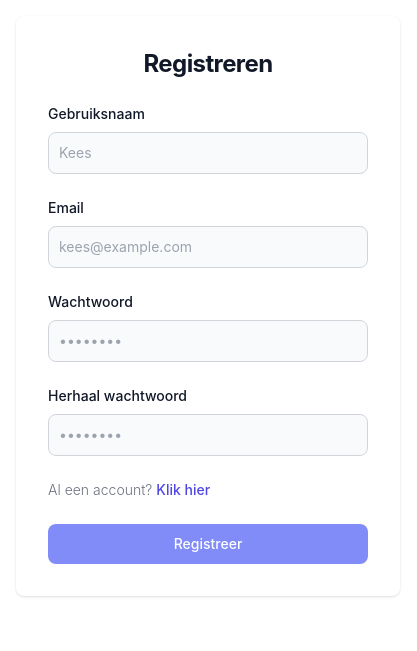
Scenario: Test register page › Registreer zonder wachtwoord
The image size is (417, 651).
Type "test" into the field with id "gebruiksnaam" at [208, 153], box [48,132,368,174]
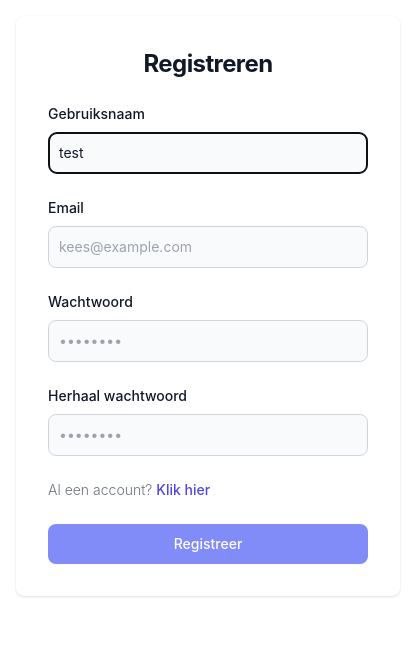
Type "test@test.com" into the field with id "email" at [208, 247], box [48,226,368,268]
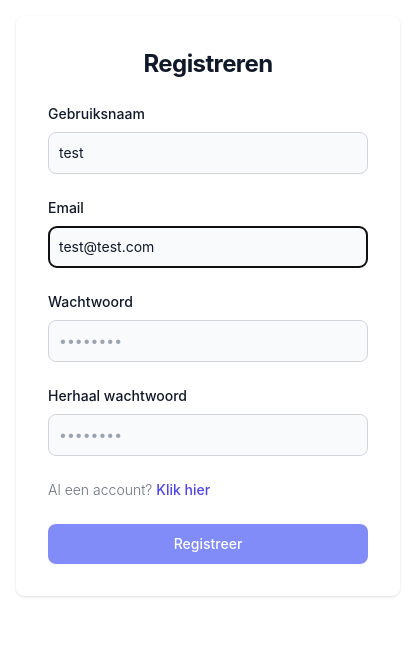
Click the button "Registreer" at [208, 544], box [48,524,368,564]
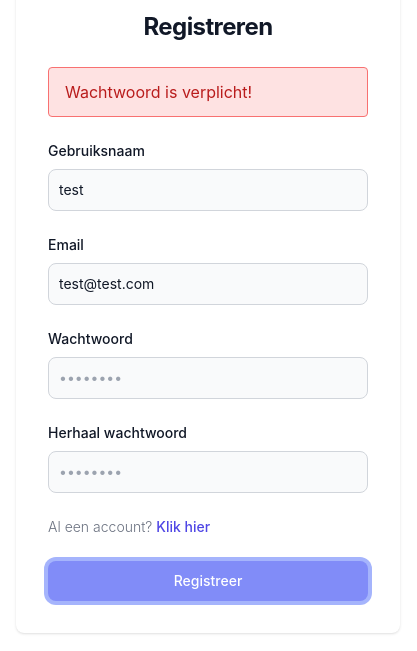
Expected: the text "Wachtwoord is verplicht!" is shown, [65,82,252,102]
